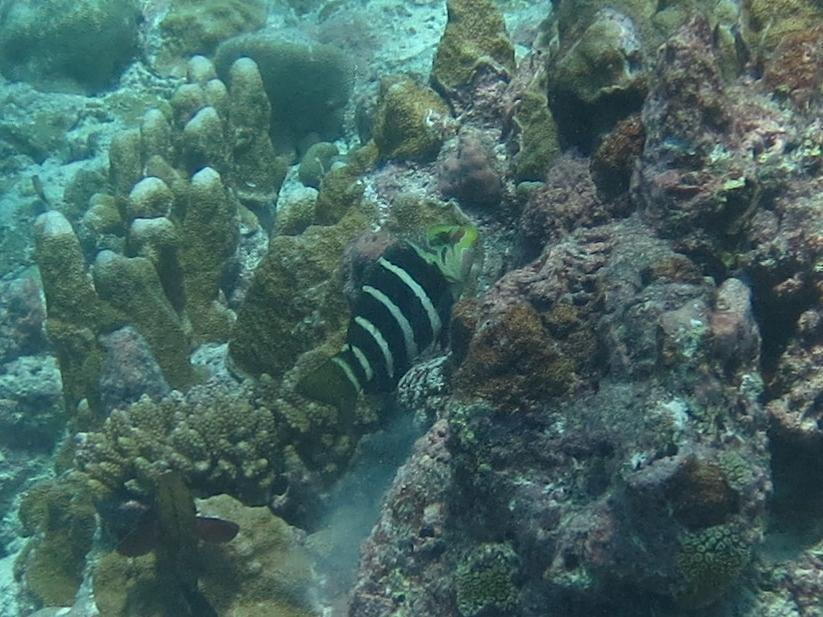Fish: (266, 192, 512, 467)
